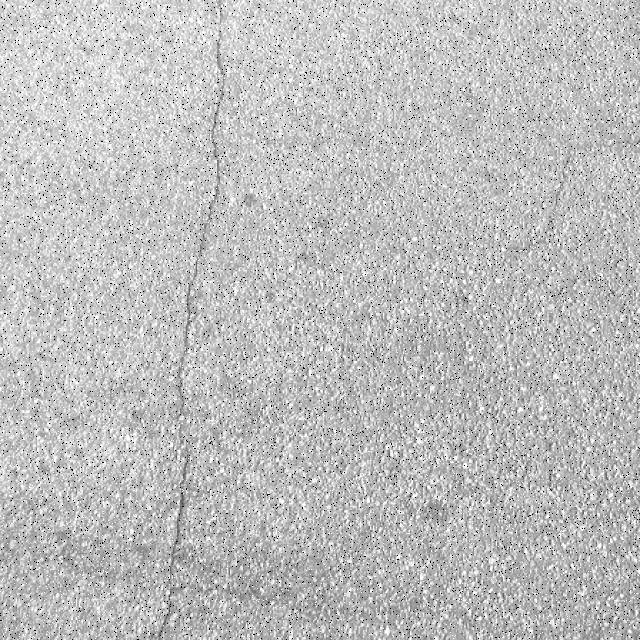Crack: (159, 0, 309, 639), (515, 141, 640, 253)
